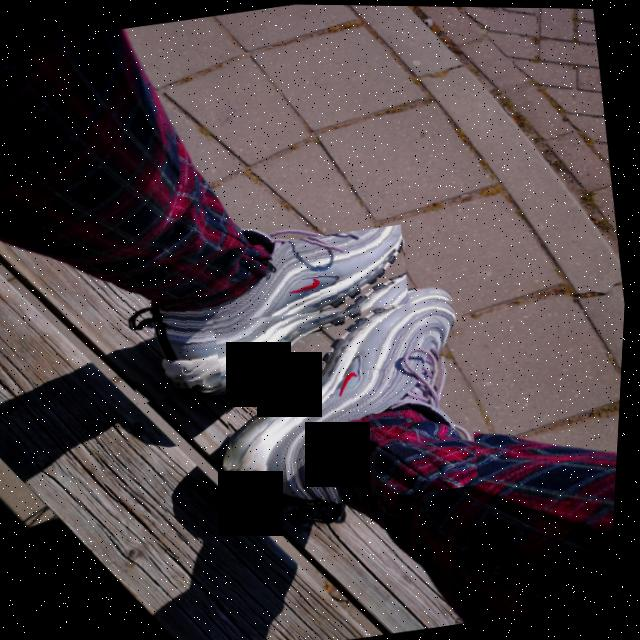shoe: (208, 282, 493, 522), (116, 220, 426, 408)
